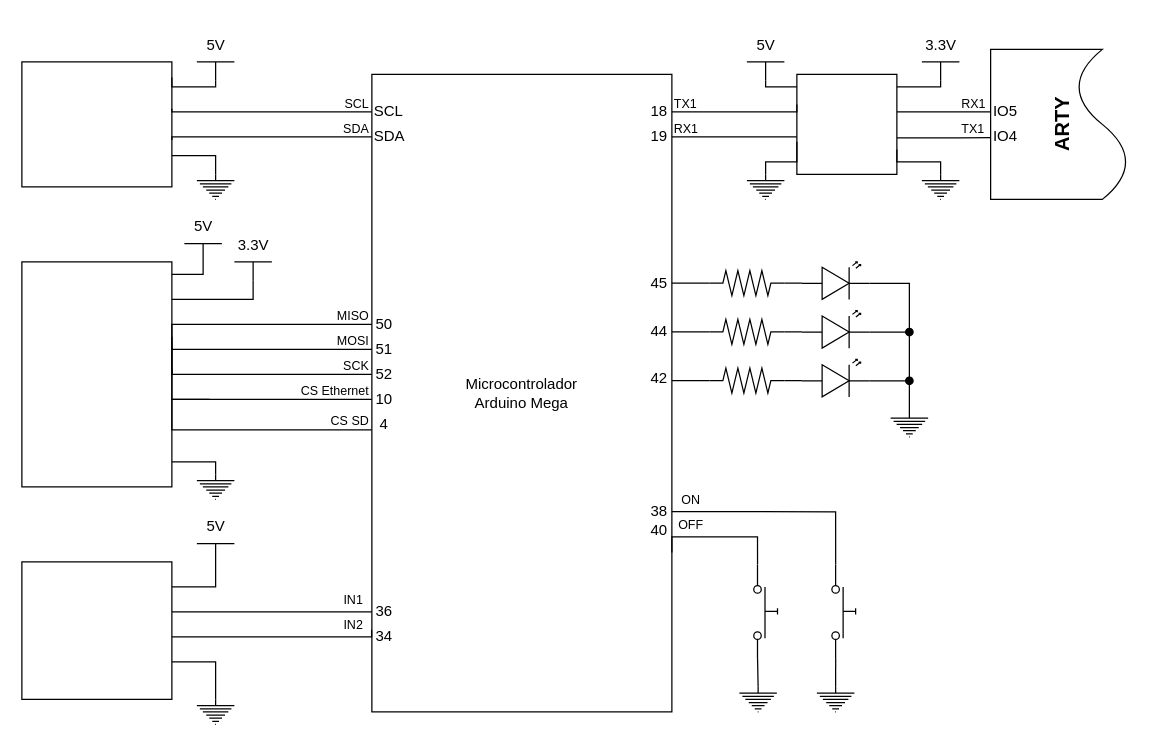
Image size: 1150x746. Some labels were removed from this diagram. The centre of each missing label's shape, as x and y in pixels:
"Convertidor de nivel" goes at pixel 846 123.
"Módulo Ethernet y SD" goes at pixel 96 374.
"Módulo Relé" goes at pixel 96 630.
"Módulo RTC" goes at pixel 96 124.
